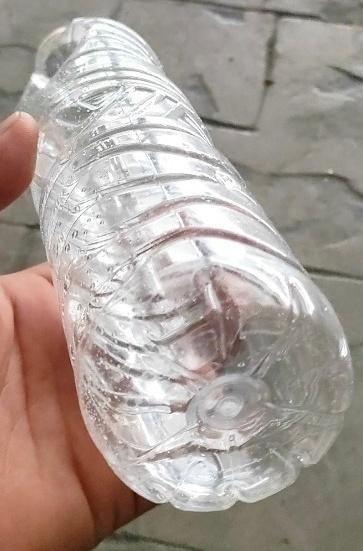plastic_bottle: (19, 17, 356, 511)
